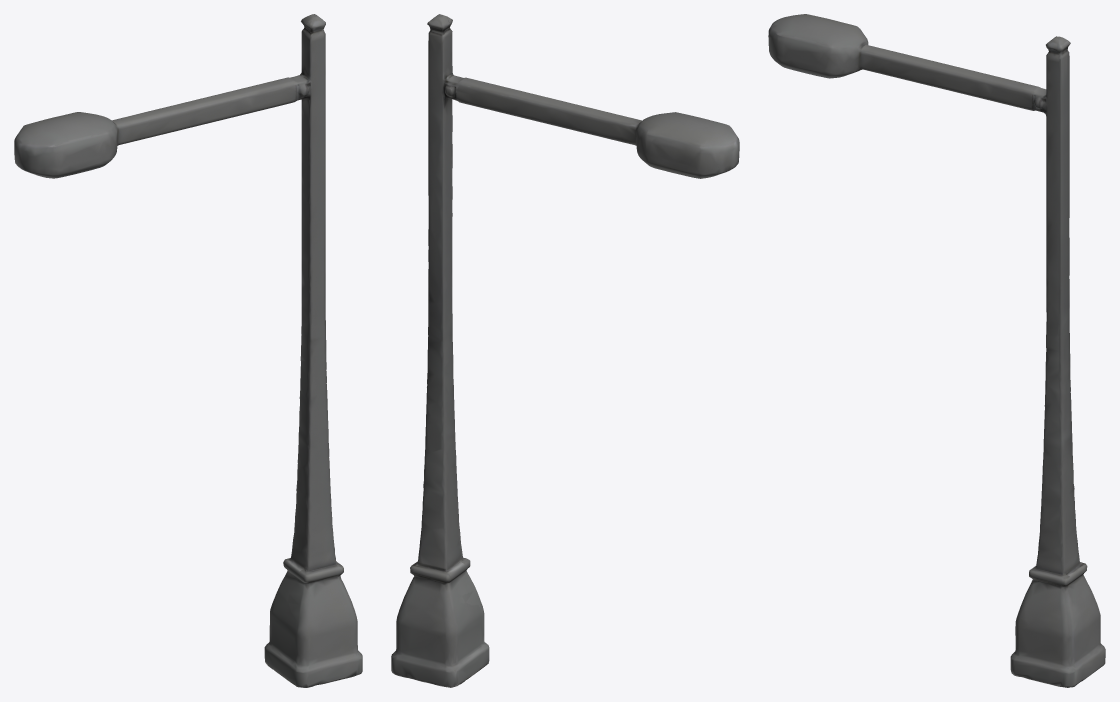
The model's file is sokaklambasi.fbx.
3 renders of one model, left to right at view 1: azimuth 30°, elevation 25°; view 2: azimuth 150°, elevation 25°; view 3: azimuth 330°, elevation 25°, orthographic. The views are drawn at different scales.
Parts seen in each view (by area): view 1: Mesh_0; view 2: Mesh_0; view 3: Mesh_0.
Boxes of the visible parts, <box> form: Mesh_0: <box>14,14,362,687</box>; Mesh_0: <box>391,14,739,687</box>; Mesh_0: <box>768,14,1105,687</box>.
Bounding box in the file's own units: 101 × 191 × 20.93.
Materials: 1 (1 with a texture image).
